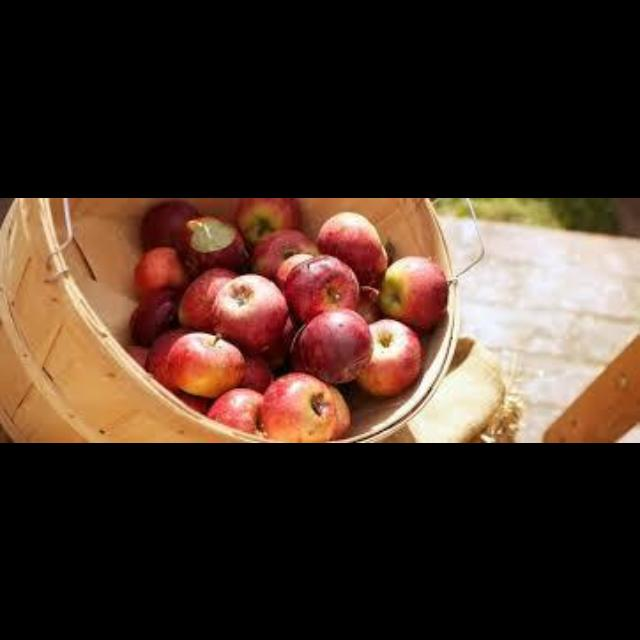apple: (210, 273, 286, 351), (292, 308, 371, 383), (260, 372, 336, 441), (281, 254, 359, 321), (316, 211, 387, 284), (378, 255, 447, 328), (357, 319, 423, 395), (168, 331, 244, 395), (177, 215, 248, 271), (253, 229, 318, 287), (179, 268, 235, 330), (235, 197, 299, 243), (140, 199, 200, 248), (129, 289, 179, 344), (145, 328, 189, 390), (134, 247, 187, 296), (207, 388, 262, 432), (240, 354, 272, 391)
